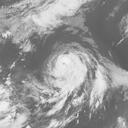cyclone: (44, 43, 90, 90)
